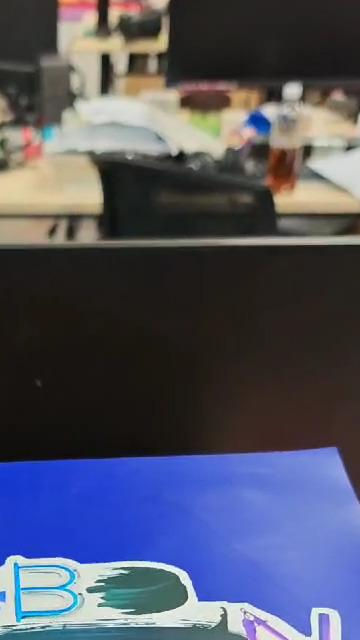B_R1: (0, 546, 353, 640)
